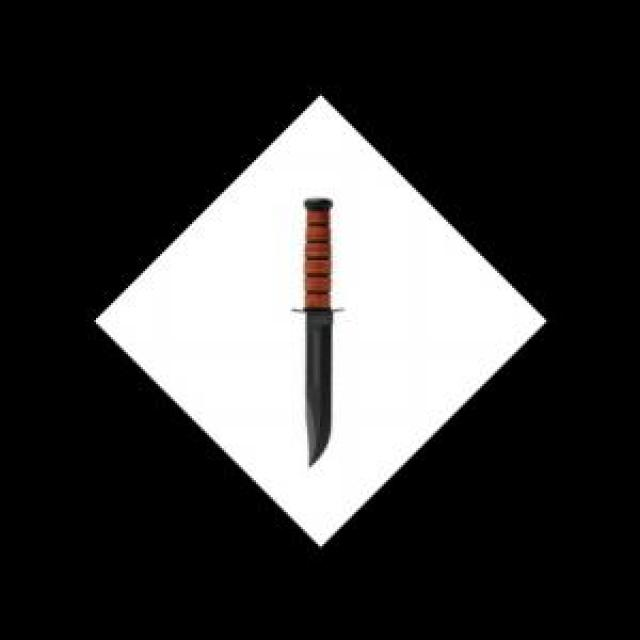knife: (292, 196, 345, 462)
